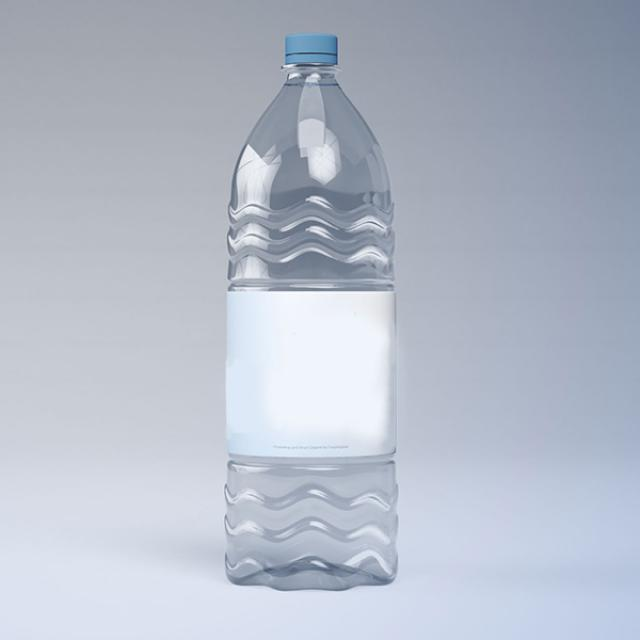bottle: (224, 33, 399, 593)
